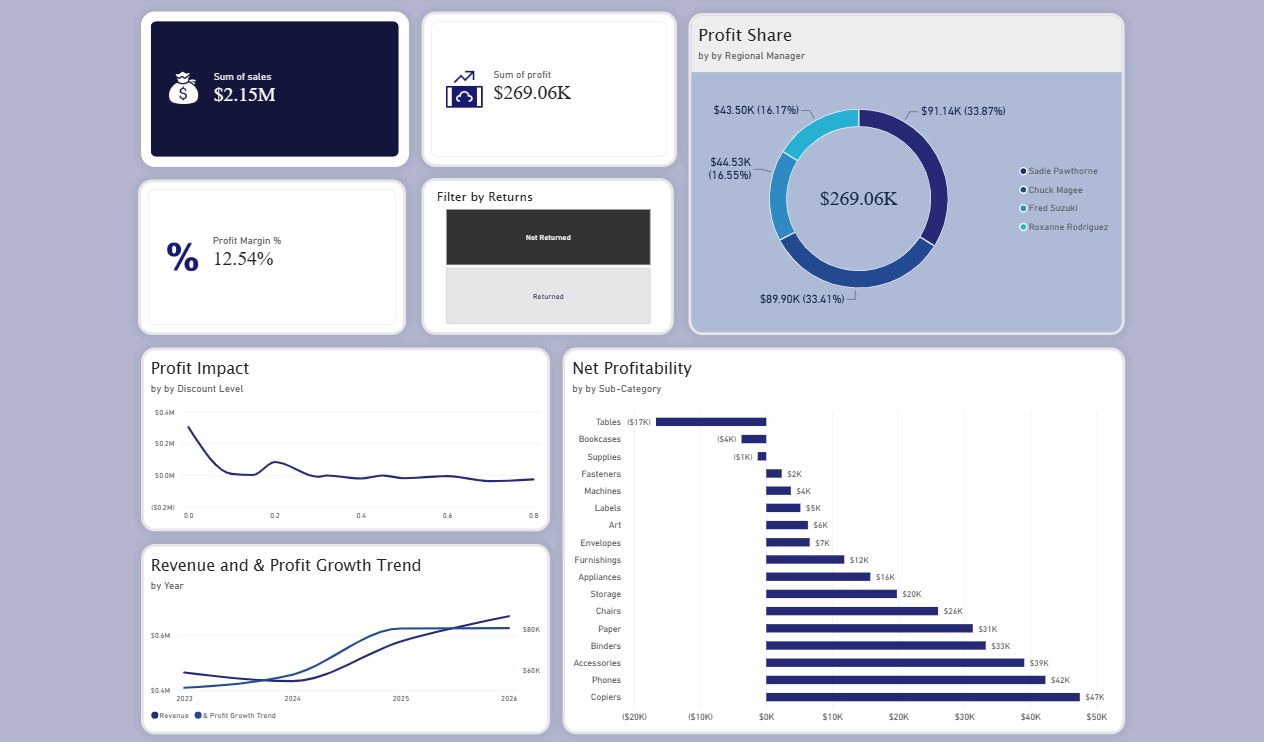

The page's visual inventory and layout, read from the dashboard file:
{"tool":"powerbi","page":{"name":"Page 1","canvas":[1920,1080],"ordinal":0},"visuals":[{"type":"cardVisual","fields":{"Data":["Sum(public raw_orders.sales)"]},"box":[300.6,23.9,383.9,222.6],"z":0},{"type":"cardVisual","fields":{"Data":["Sum(public raw_orders.profit)"]},"box":[701.8,23.5,365.7,222.6],"z":1000},{"type":"cardVisual","fields":{"Data":["public raw_orders.Profit Margin %"]},"box":[297.5,264.2,383.9,222.6],"z":2000},{"type":"clusteredBarChart","fields":{"Category":["public raw_orders.sub_category"],"Y":["Sum(public raw_orders.profit)"]},"box":[904,504,806,554],"z":3000},{"type":"donutChart","fields":{"Category":["public raw_people.regional_manager"],"Y":["Sum(public raw_orders.profit)"]},"box":[1085.7,25.7,624.6,461.1],"z":4000},{"type":"lineChart","fields":{"Category":["public raw_orders.discount"],"Y":["Sum(public raw_orders.profit)"]},"box":[299.8,505,586,263.5],"z":5000},{"type":"lineChart","fields":{"Category":["public raw_orders.order_date.Variation.Date Hierarchy.Year","public raw_orders.order_date.Variation.Date Hierarchy.Quarter","public raw_orders.order_date.Variation.Date Hierarchy.Month","public raw_orders.order_date.Variation.Date Hierarchy.Day"],"Y":["Sum(public raw_orders.sales)"],"Y2":["Sum(public raw_orders.profit)"]},"box":[299.8,786.6,586,272.6],"z":6000},{"type":"slicer","fields":{"Values":["public raw_orders.Returned Status Column"]},"box":[701.8,262,361.1,224.9],"z":7000}]}

Visuals, with their boxes in screenshot pixels (x1, y1, x2, y2):
cardVisual - Sum(public raw_orders.sales): box(137, 7, 405, 162)
cardVisual - Sum(public raw_orders.profit): box(417, 7, 673, 162)
cardVisual - public raw_orders.Profit Margin %: box(135, 174, 403, 330)
clusteredBarChart - public raw_orders.sub_category x Sum(public raw_orders.profit): box(558, 342, 1121, 728)
donutChart - public raw_people.regional_manager x Sum(public raw_orders.profit): box(685, 8, 1121, 330)
lineChart - public raw_orders.discount x Sum(public raw_orders.profit): box(137, 343, 546, 526)
lineChart - public raw_orders.order_date.Variation.Date Hierarchy.Year x public raw_orders.order_date.Variation.Date Hierarchy.Quarter: box(137, 539, 546, 729)
slicer - public raw_orders.Returned Status Column: box(417, 173, 669, 330)
